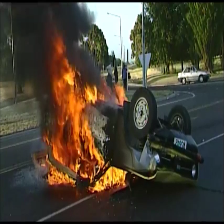fire_h: (39, 26, 110, 179), (88, 167, 127, 192), (47, 167, 76, 185)
fire_l: (113, 84, 128, 106), (41, 155, 53, 167), (43, 129, 50, 145)
